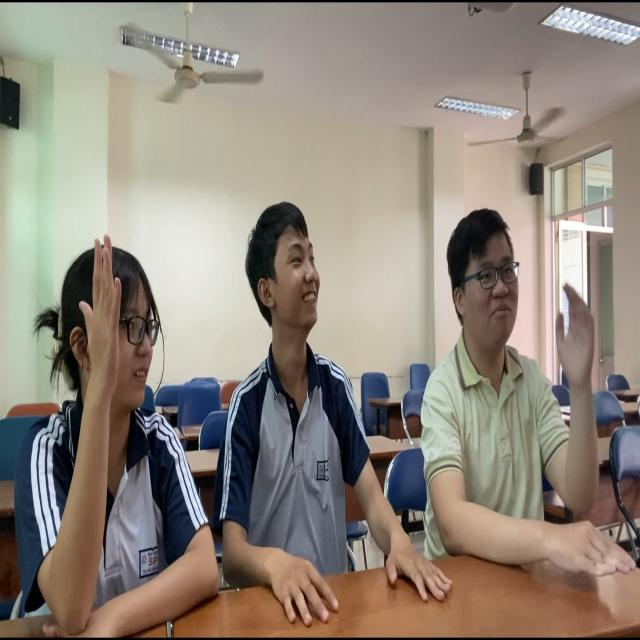raise_hand: (13, 188, 233, 640), (419, 152, 611, 613)
